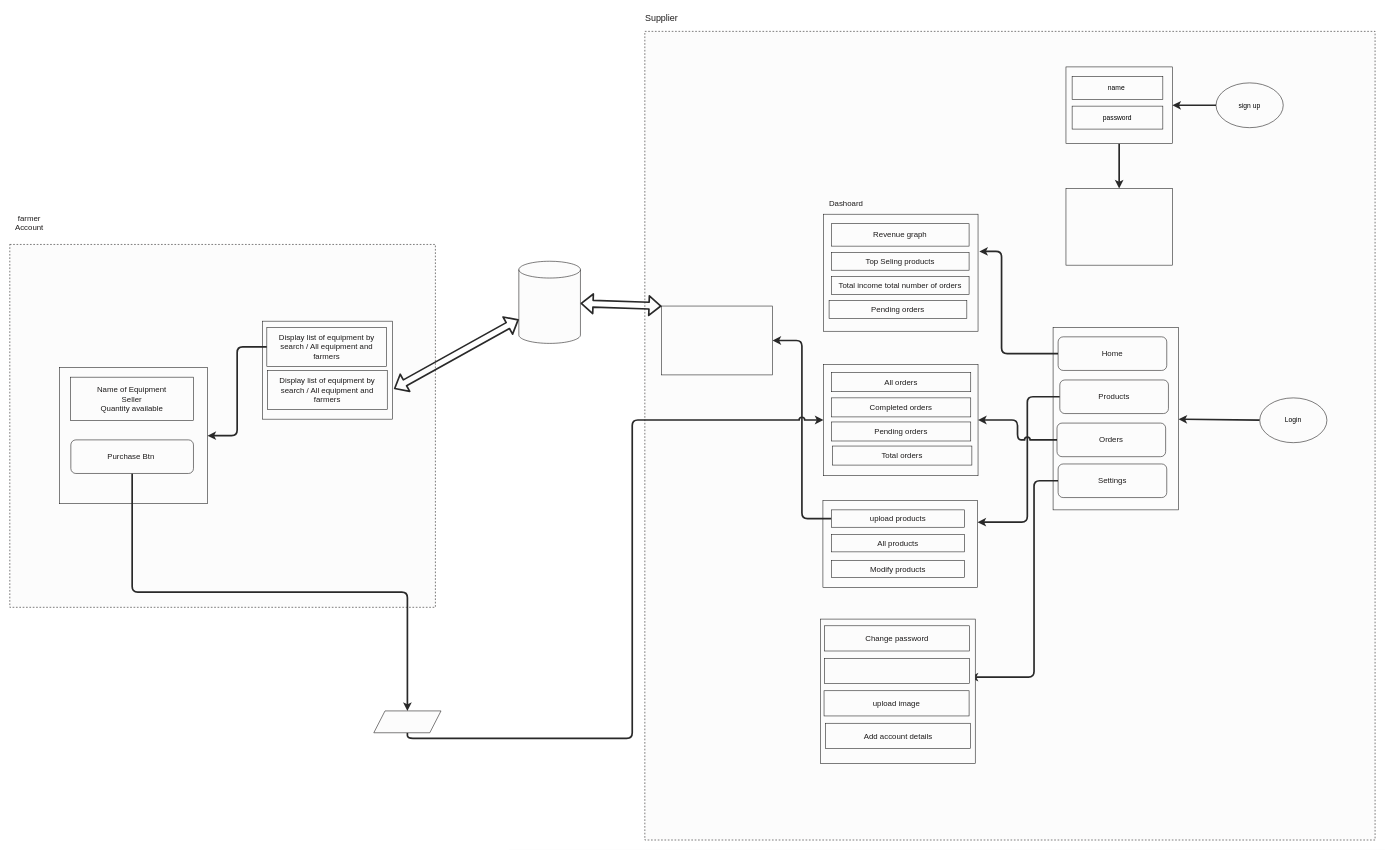
This 1385x850 diagram has some shape labels left out. Each missing label, with the box of its shape:
email questoinnare: (1065, 188, 1172, 265)
product name quantity brand category description price: (661, 305, 773, 375)
Stripe function: (373, 710, 441, 733)
upload/edit image: (824, 658, 970, 683)
